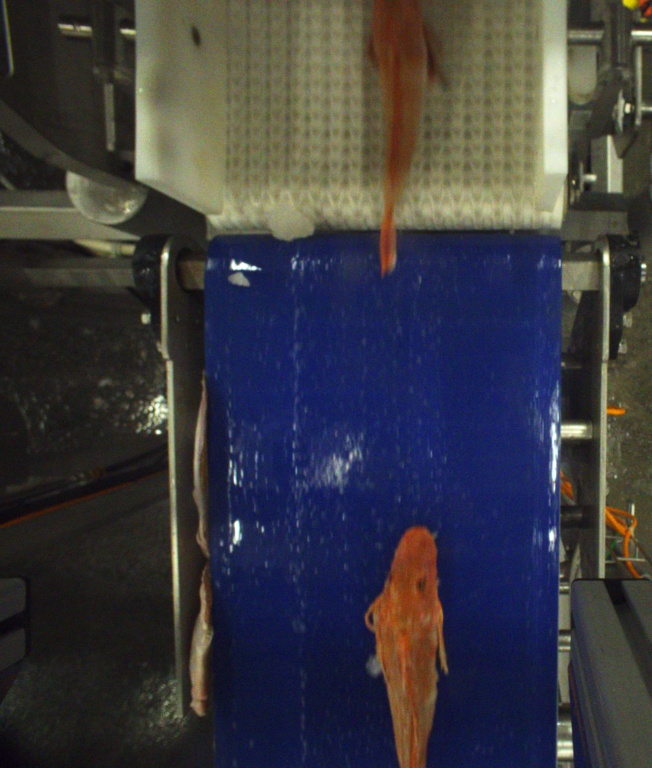GUU: (368, 526, 445, 768)
